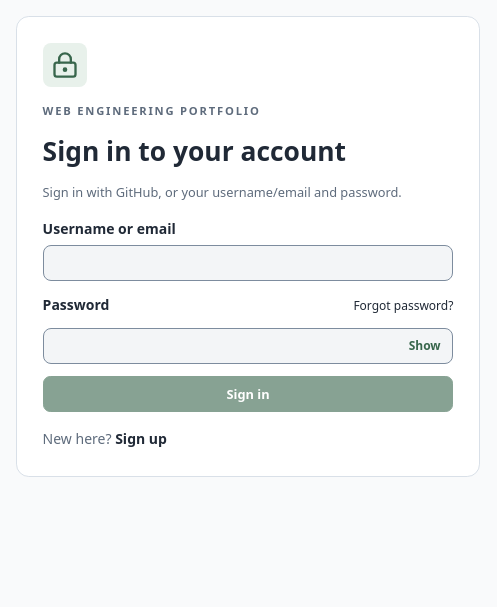
Public accounts › keeps confirmation help contextual and offers it after rejected sign-in
The image size is (497, 607).
Expected: the link "Resend confirmation email" is not shown
Expected: the text "New here?" is shown, [43,429,112,448]
In the field labelled "Username or email": (248, 263) [43,245,453,281], type "student"
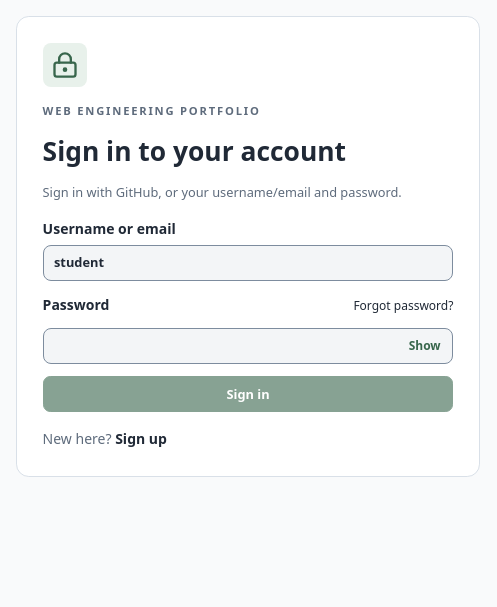
In the password field labelled "Password": (248, 346) [43,328,453,364], type "student private password"
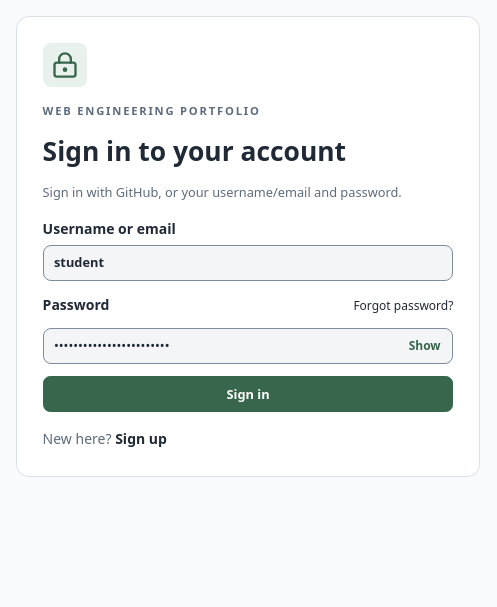
Expected: the button "Sign in" is enabled
Click the button "Sign in": click(248, 394) [43,376,453,412]
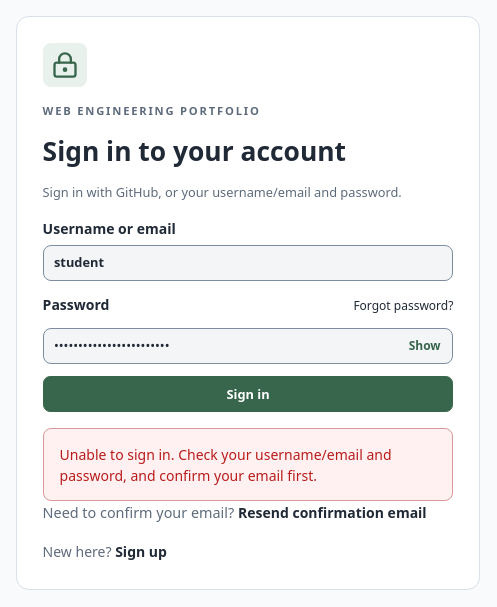
Expected: the message shows "confirm your email first", [60,445,392,485]
Click the link "Resend confirmation email": click(332, 513) [238,502,427,524]
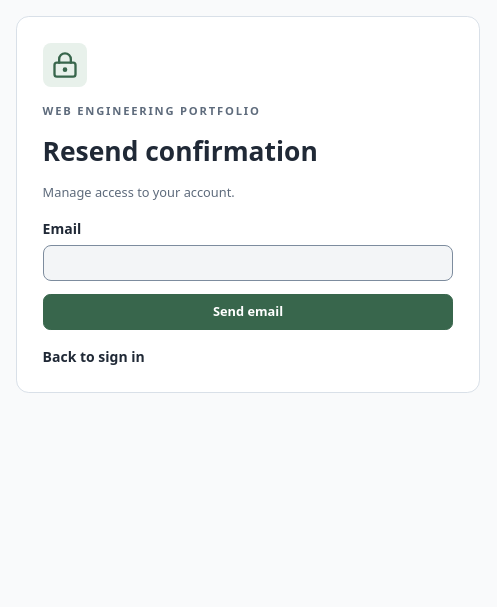
Expected: the heading "Resend confirmation" is shown, [43,133,318,169]
Expected: the field labelled "Email" is shown, [43,245,453,281]
